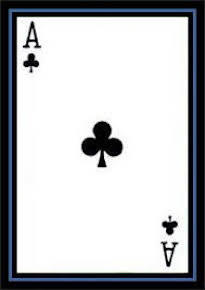AceOfClubs: (6, 7, 199, 285)
